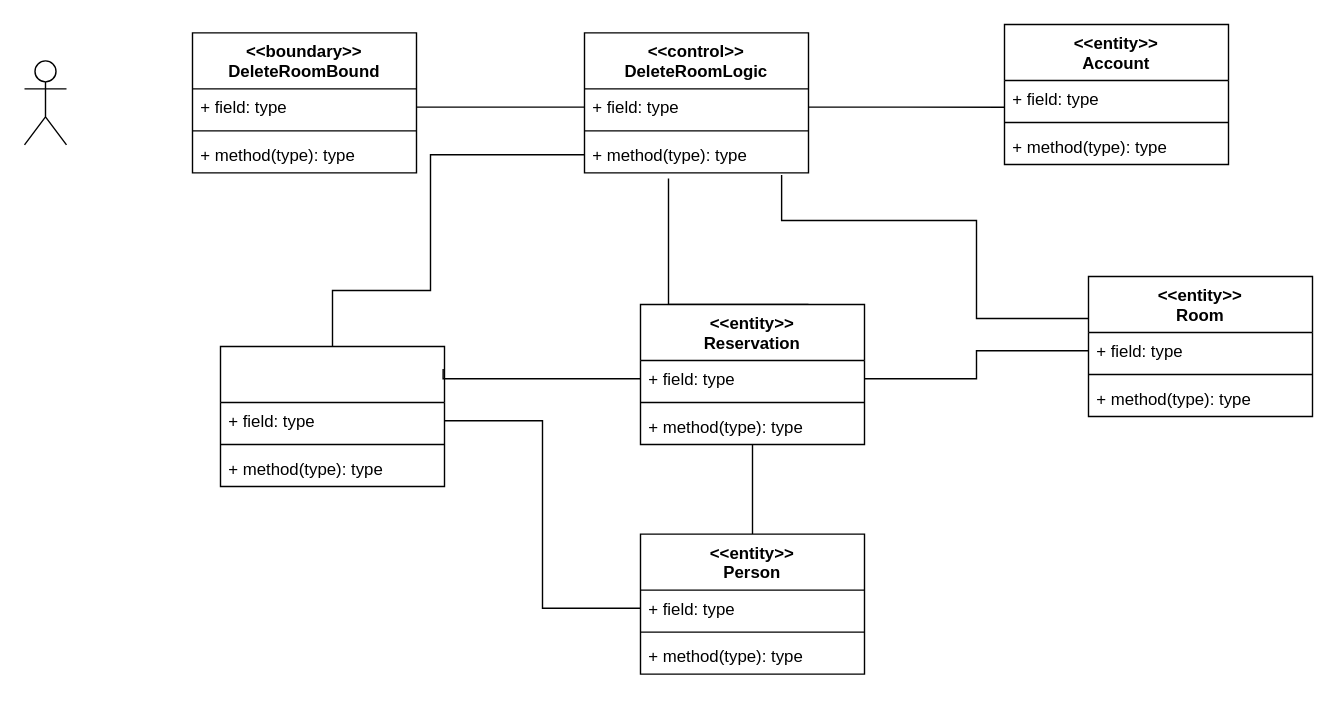
The diagram is 1337 pixels wide and 703 high, and some of its shapes have lost their labels. The shapes that lost their labels are listed below. From the top down, each one's box as (x1, y1, x2, y2) in pixels, then its label:
(23, 59, 66, 145): Host
(219, 345, 444, 486): DeleteAlert
